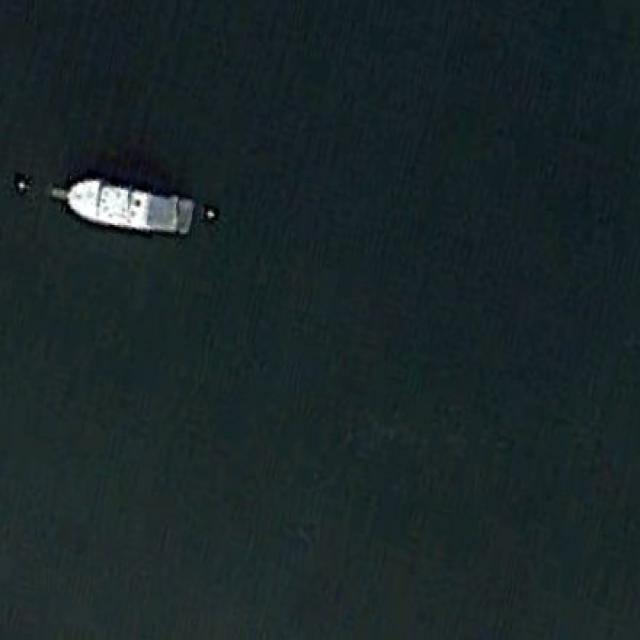boat: (52, 174, 195, 237)
